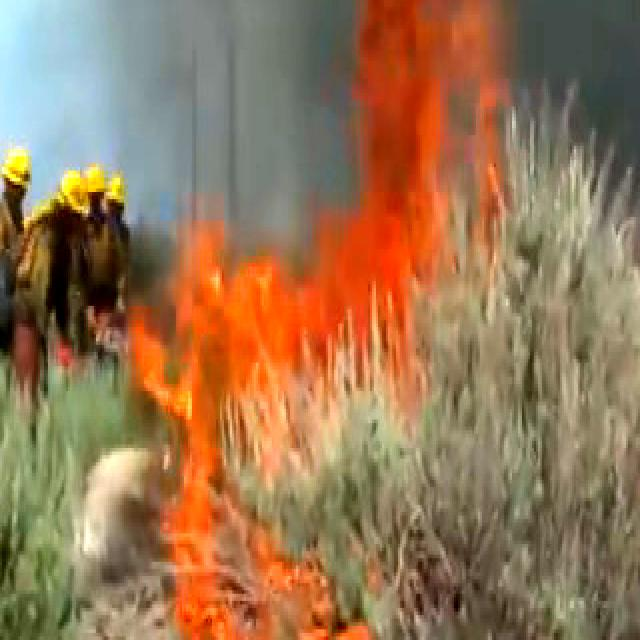fire: (132, 0, 508, 640)
smoke: (516, 0, 640, 174)
